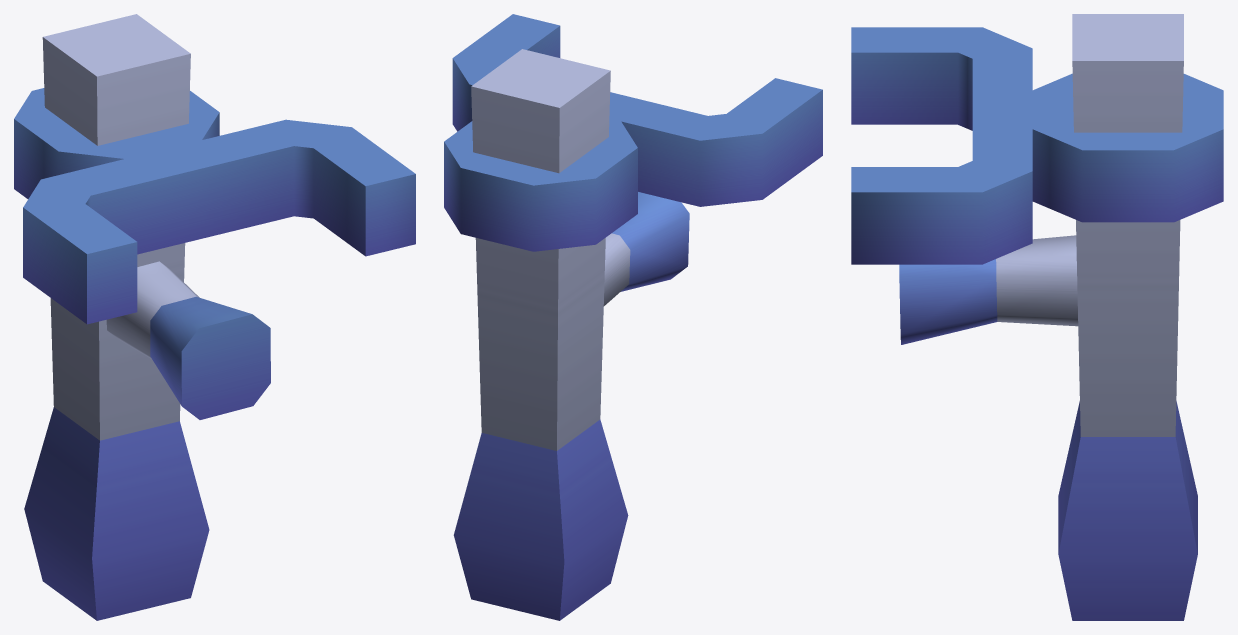
The model's file is aid-crutch.fbx.
3 views of the same model, side by side, from view 1: azimuth 30°, elevation 25°; view 2: azimuth 150°, elevation 25°; view 3: azimuth 270°, elevation 25° (orthographic). The views are drawn at different scales.
Visible parts, largest first — view 1: aid-crutch, Group; view 2: Group, aid-crutch; view 3: aid-crutch, Group.
Part boxes in pixels (<box>): aid-crutch: <box>14,88,415,419</box>; Group: <box>24,14,209,620</box>; Group: <box>453,49,628,620</box>; aid-crutch: <box>444,14,822,306</box>; aid-crutch: <box>851,27,1223,344</box>; Group: <box>1058,14,1197,620</box>.
Size of the model in its own units: 19.6 by 31 by 18.7.
